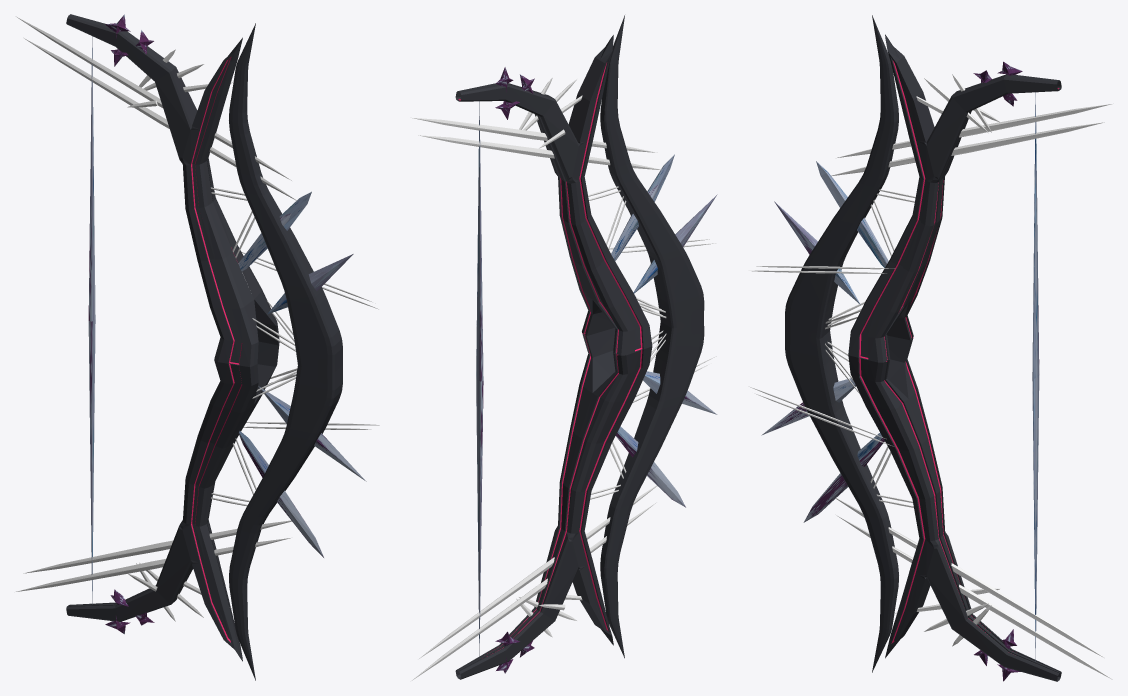
File: bow_red.obj
3 views of the same model, side by side, from view 1: azimuth 90°, elevation 25°; view 2: azimuth 150°, elevation 25°; view 3: azimuth 270°, elevation 25° (orthographic). The views are drawn at different scales.
Parts seen in each view (by area): view 1: 立方体.045_立方体.048; view 2: 立方体.045_立方体.048; view 3: 立方体.045_立方体.048.
Boxes of the visible parts, x1,y1,x2,y2 form: 立方体.045_立方体.048: (15, 14, 379, 680); 立方体.045_立方体.048: (411, 15, 717, 680); 立方体.045_立方体.048: (748, 15, 1112, 681).
Size of the model in its own units: 0.3299 by 1.44 by 0.7275.
5 materials, 5 textured.
